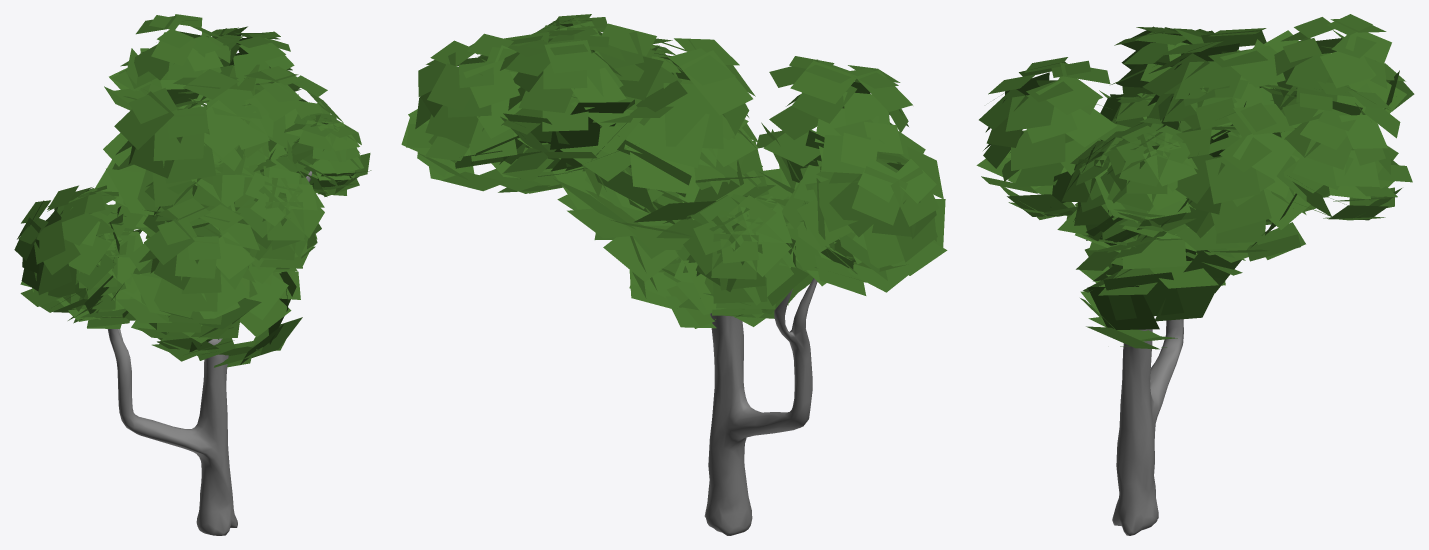
File: SM_tree_stylized_01.fbx
3 renders of one model, left to right at view 1: azimuth 30°, elevation 25°; view 2: azimuth 150°, elevation 25°; view 3: azimuth 270°, elevation 25°, orthographic. The views are drawn at different scales.
Parts seen in each view (by area): view 1: Object137; view 2: Object137; view 3: Object137.
Boxes of the visible parts, x1=… form: Object137: x1=14, y1=14, x2=371, y2=535; Object137: x1=401, y1=14, x2=947, y2=535; Object137: x1=976, y1=14, x2=1414, y2=535.
Size of the model in its own units: 283 by 258 by 341.
